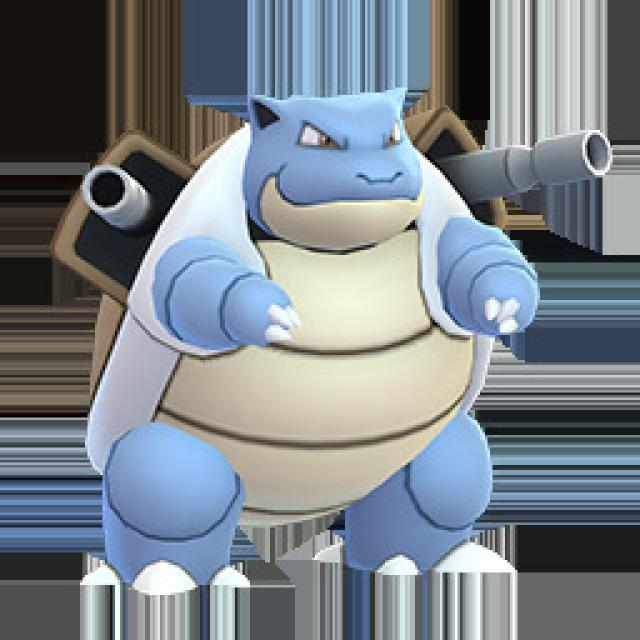Blastoise: (59, 85, 615, 578)
